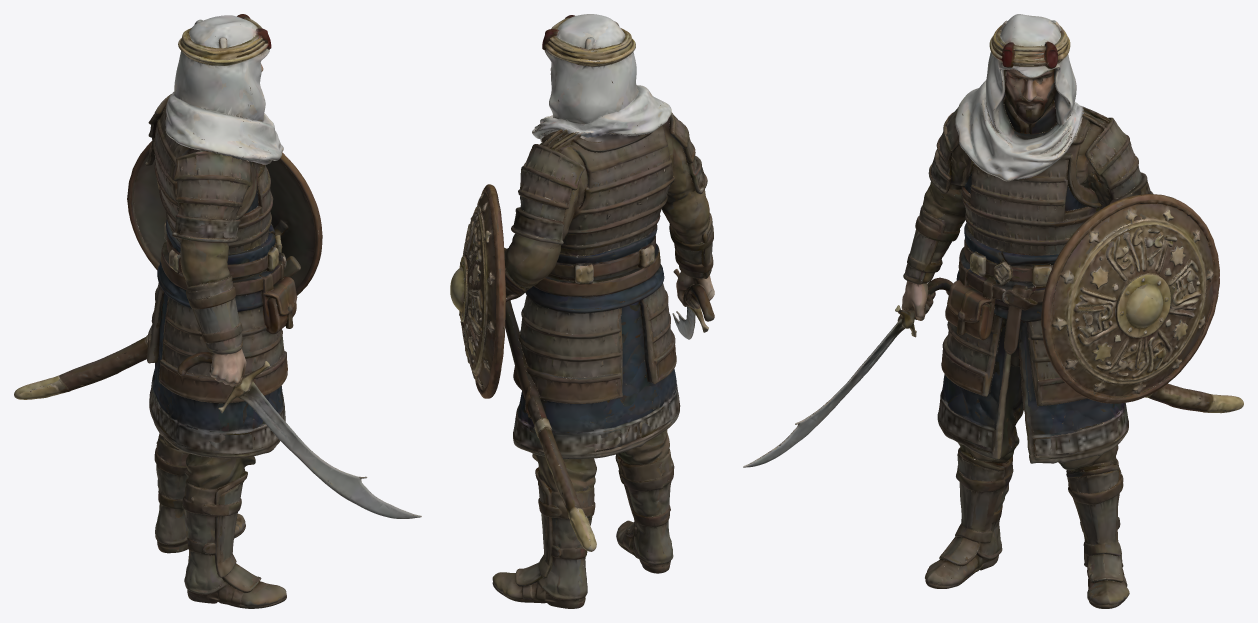
Rendered from knight-model.glb.
3 views of the same model, side by side, from view 1: azimuth 30°, elevation 25°; view 2: azimuth 150°, elevation 25°; view 3: azimuth 270°, elevation 25° (orthographic). The views are drawn at different scales.
Parts seen in each view (by area): view 1: tripo_node_4bfe2606-060c-44d0-8a5d-9acfd453d9cd; view 2: tripo_node_4bfe2606-060c-44d0-8a5d-9acfd453d9cd; view 3: tripo_node_4bfe2606-060c-44d0-8a5d-9acfd453d9cd.
Part boxes in pixels (box(x1,y1,x2,y2)): tripo_node_4bfe2606-060c-44d0-8a5d-9acfd453d9cd: box(14, 14, 421, 608); tripo_node_4bfe2606-060c-44d0-8a5d-9acfd453d9cd: box(450, 14, 714, 608); tripo_node_4bfe2606-060c-44d0-8a5d-9acfd453d9cd: box(743, 14, 1243, 608).
Size of the model in its own units: 0.4033 by 1 by 0.8039.
1 material, 1 textured.
